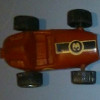rojo_este: (1, 13, 99, 88)
